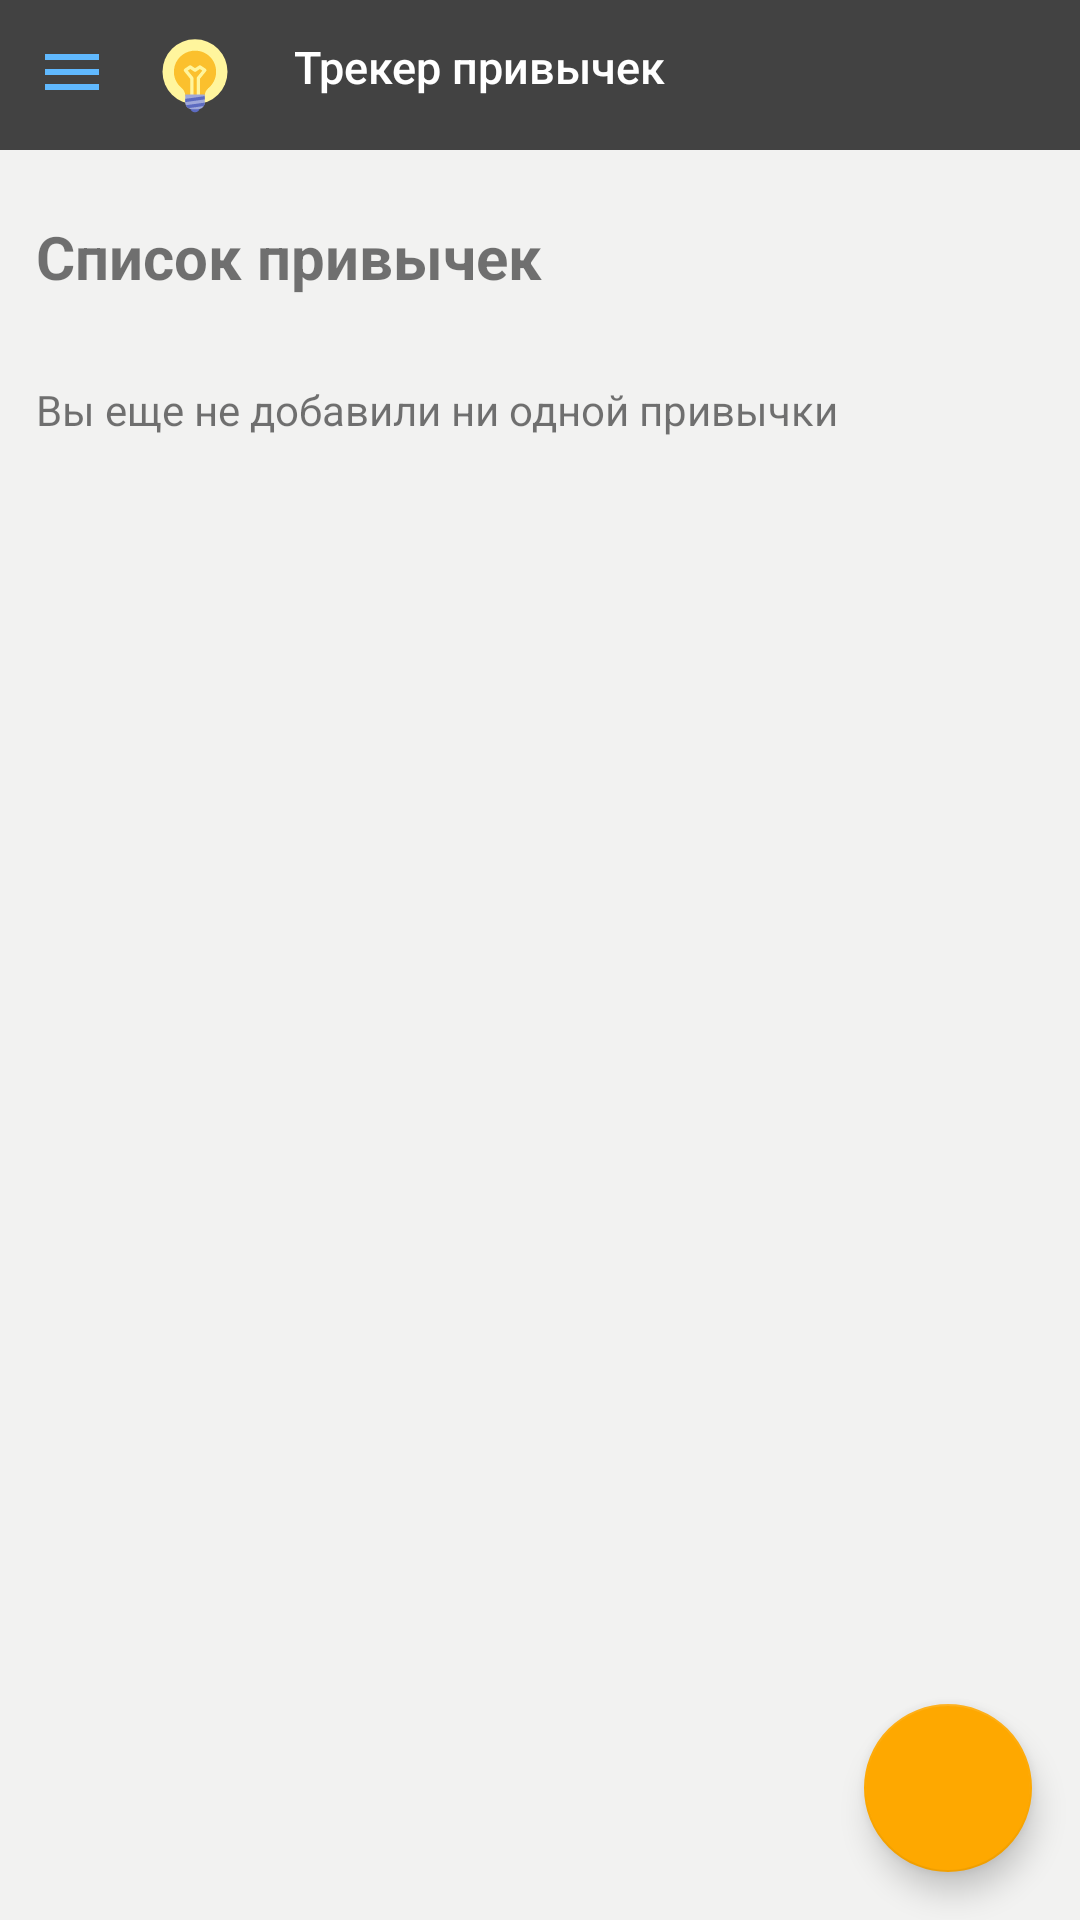

Where to tap for icons on this 1080px×1920px app screen, as (x=x, y=y):
Меню: (x=72, y=72)
